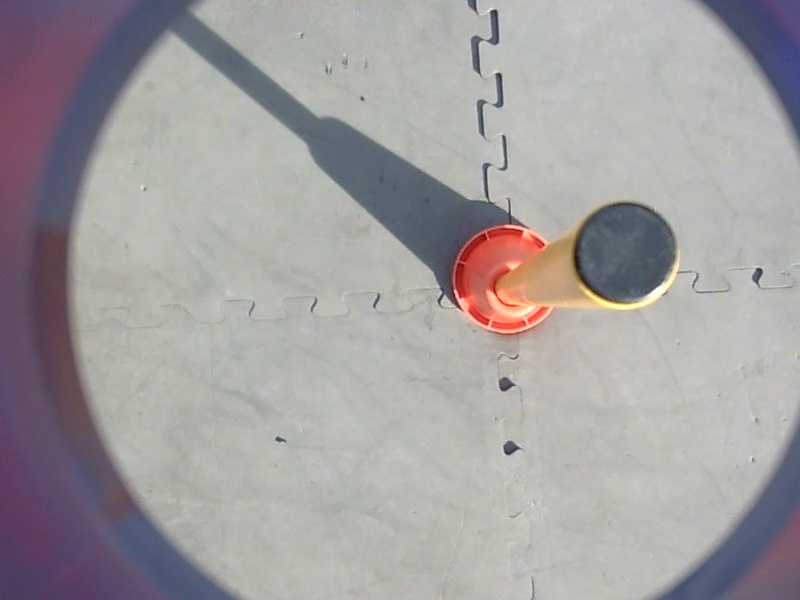tip: (566, 195, 686, 316)
